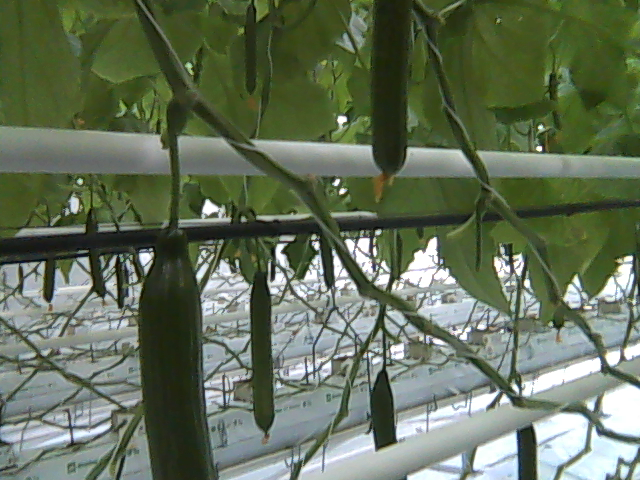concombre: (131, 221, 225, 480), (368, 1, 415, 206)
